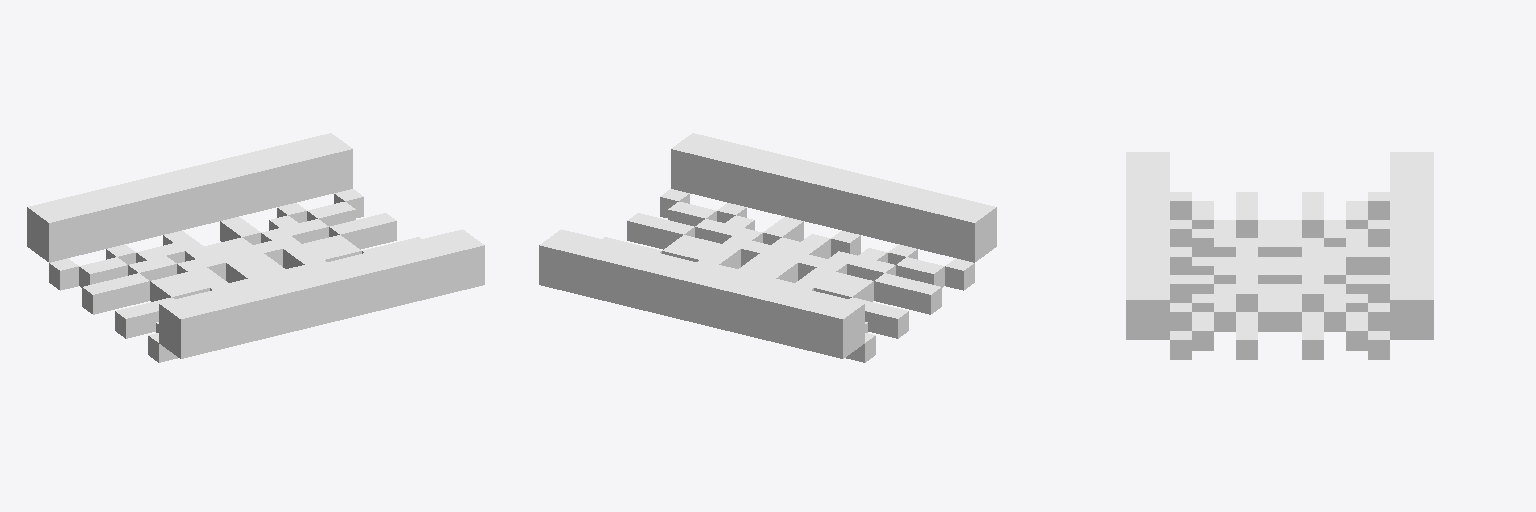
The model's file is rct2rail.obj.
3 renders of one model, left to right at view 1: azimuth 30°, elevation 25°; view 2: azimuth 150°, elevation 25°; view 3: azimuth 270°, elevation 25°, orthographic.
Size of the model in its own units: 16 by 3 by 14.